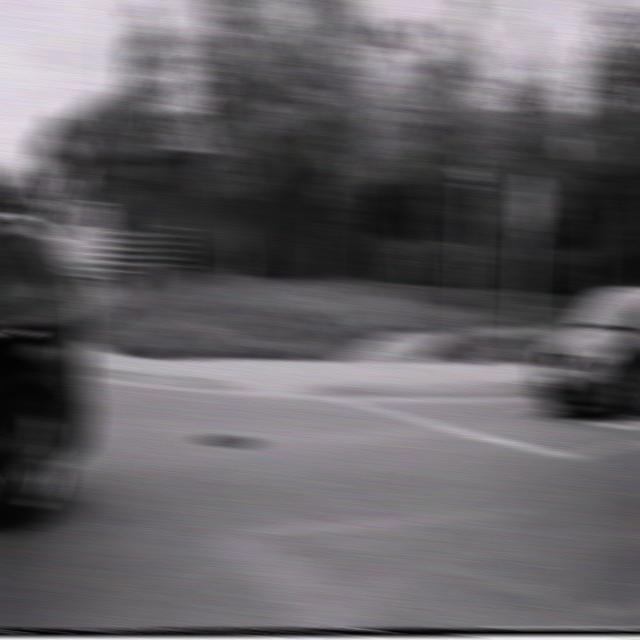speedLimit25: (84, 206, 110, 242)
